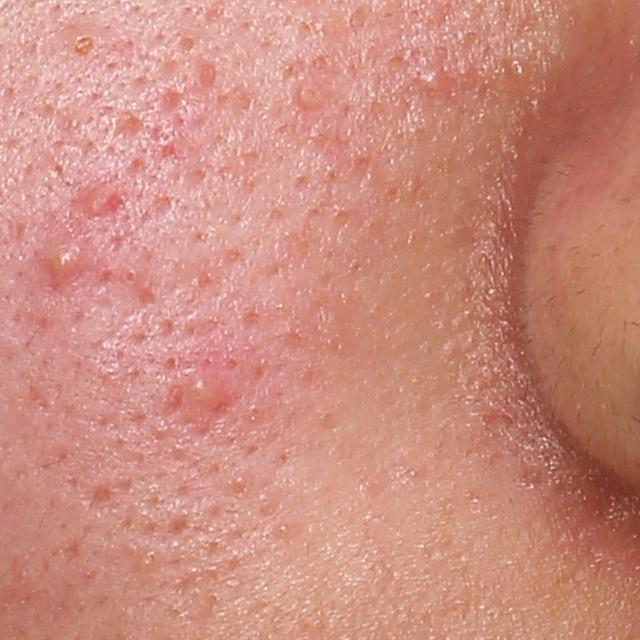comedo: (68, 32, 97, 62), (121, 269, 139, 286)
papule: (38, 237, 92, 283), (79, 182, 123, 214), (294, 80, 328, 112), (420, 61, 448, 93)
